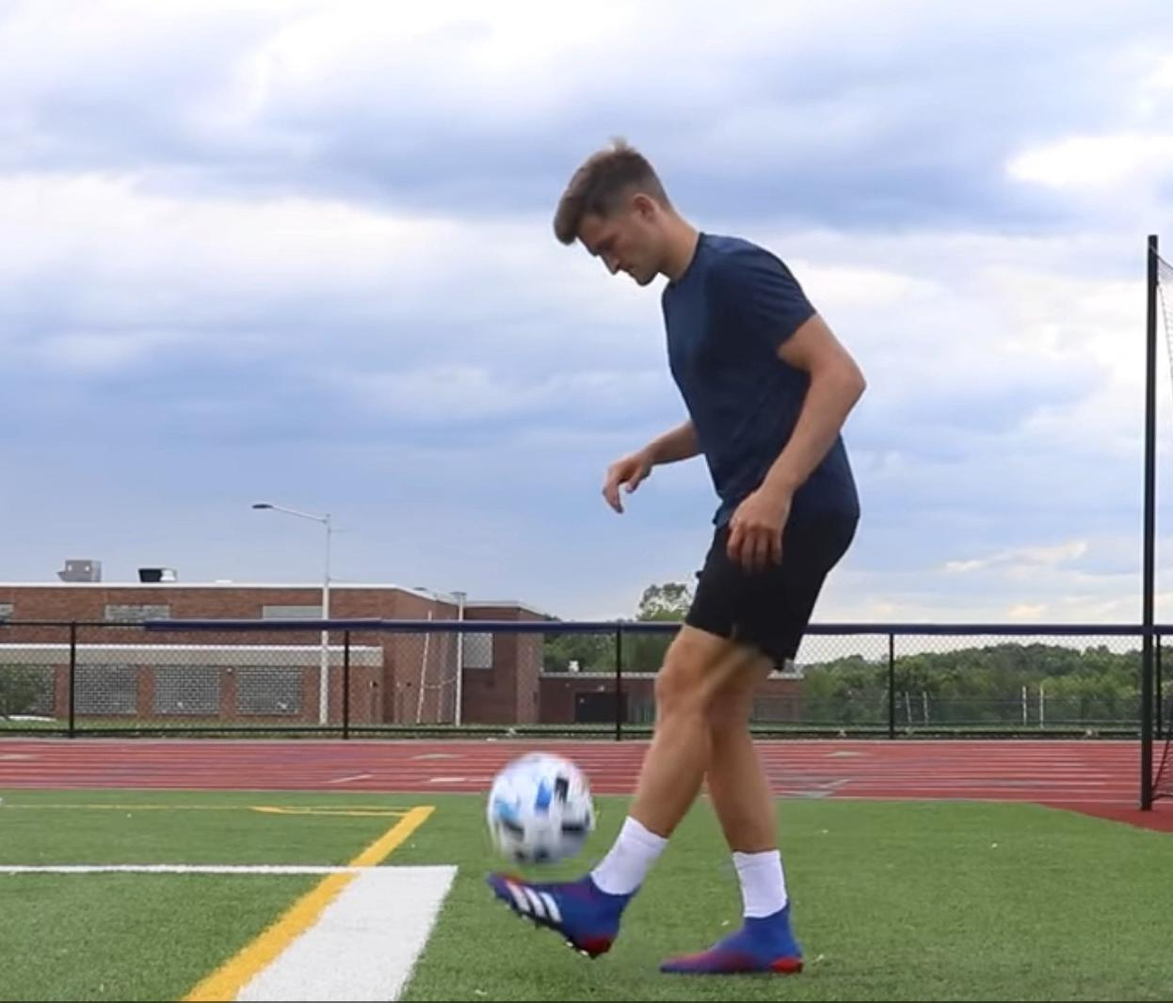ball: (485, 749, 594, 861)
foot: (653, 900, 809, 981), (495, 864, 617, 962)
person: (487, 149, 867, 973)
